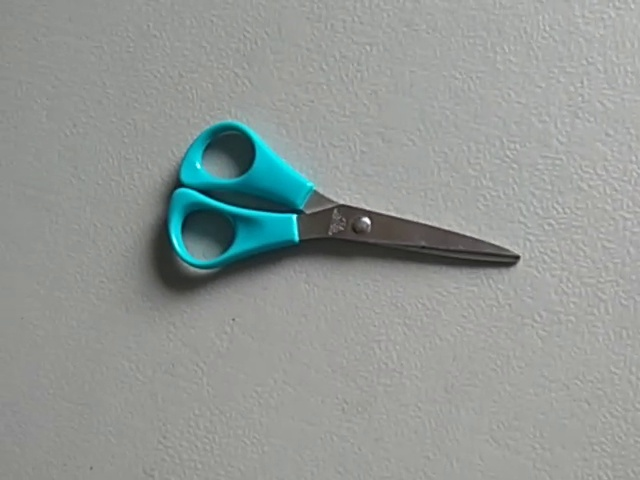Sizer: (150, 106, 534, 336)
